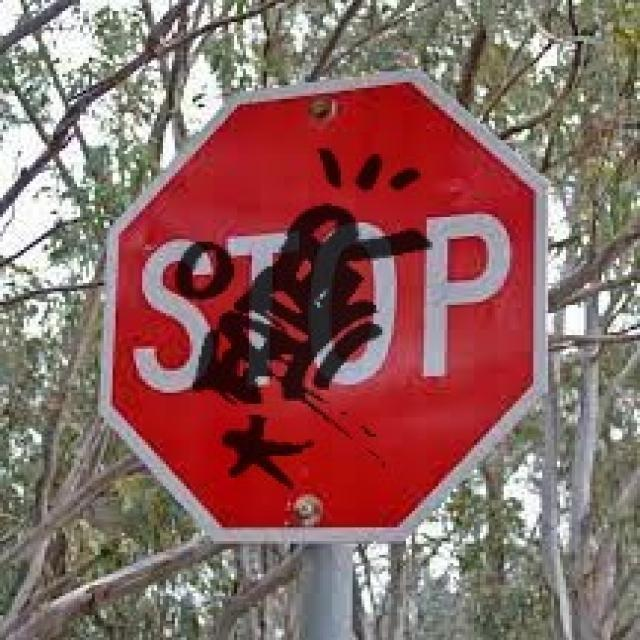Stop-Sign: (142, 88, 517, 514)
